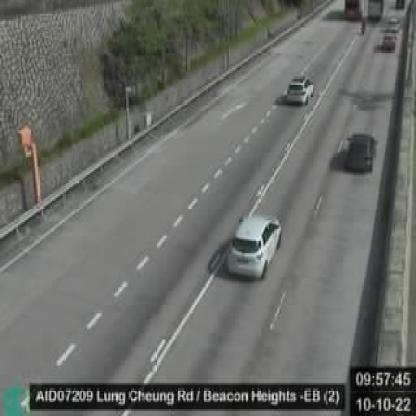Car: (227, 214, 283, 279), (346, 132, 374, 172), (284, 75, 313, 104), (381, 29, 397, 50)
